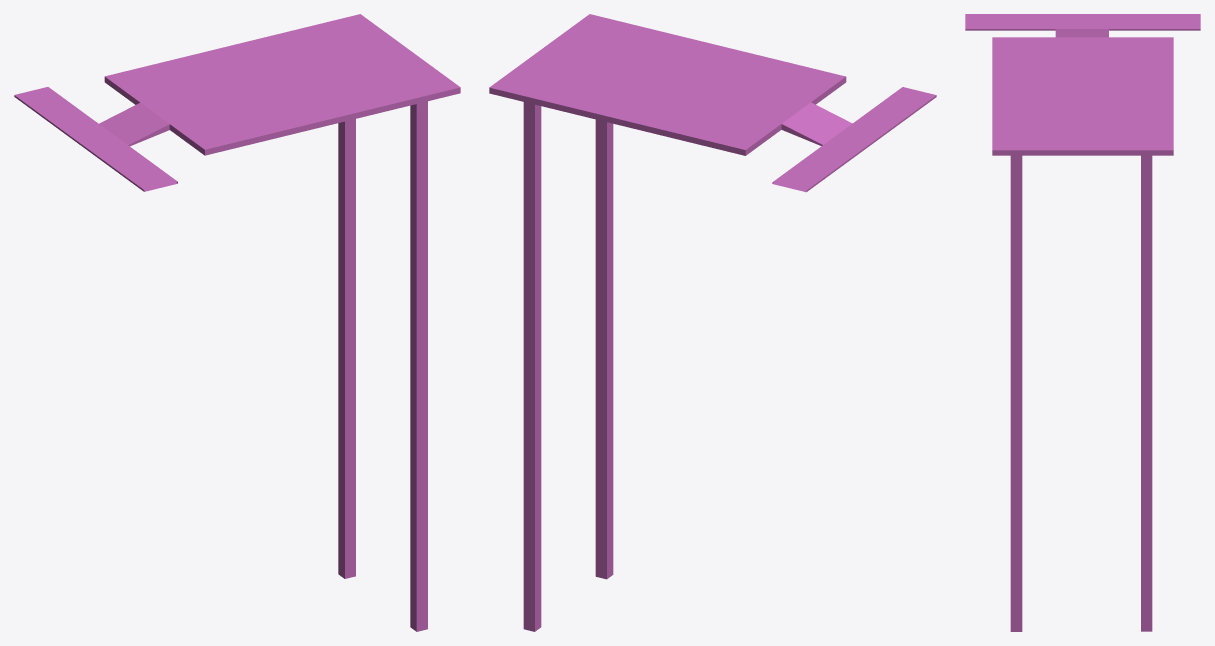
Rendered from building9.fbx.
3 views of the same model, side by side, from view 1: azimuth 30°, elevation 25°; view 2: azimuth 150°, elevation 25°; view 3: azimuth 270°, elevation 25° (orthographic). The views are drawn at different scales.
Parts seen in each view (by area): view 1: Cube.034; view 2: Cube.034; view 3: Cube.034.
Part boxes in pixels (x1,y1,x2,y2): Cube.034: [14, 14, 460, 631]; Cube.034: [489, 14, 936, 631]; Cube.034: [965, 14, 1200, 631].
Size of the model in its own units: 12.99 by 20.37 by 8.83.
